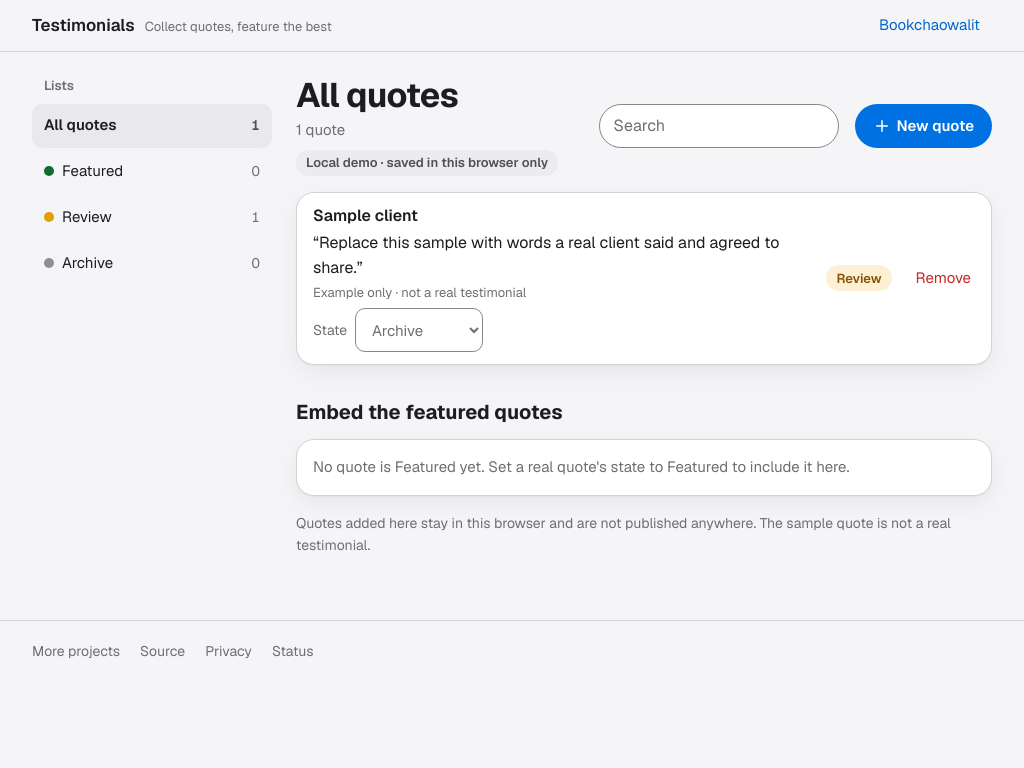
Test: lists, search, state and remove › changes state, moves the quote between lists, and shows per-list empty states
The width and height of the screenshot is (1024, 768).
Select "Archive" in the dropdown labelled "State" at (419, 330), box x1=355 y1=308 x2=483 y2=352
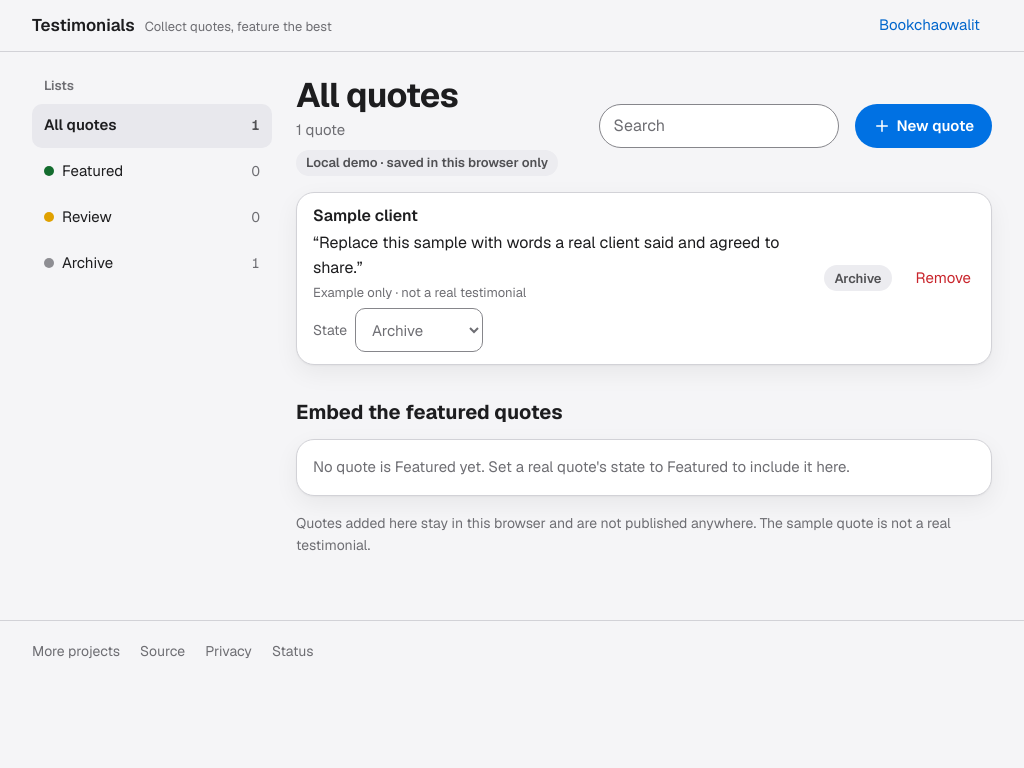
Check: the text with class "as-pill" reads "Archive", box x1=834 y1=270 x2=882 y2=287
Click the button "Archive 1" at (152, 264), box x1=32 y1=242 x2=272 y2=286
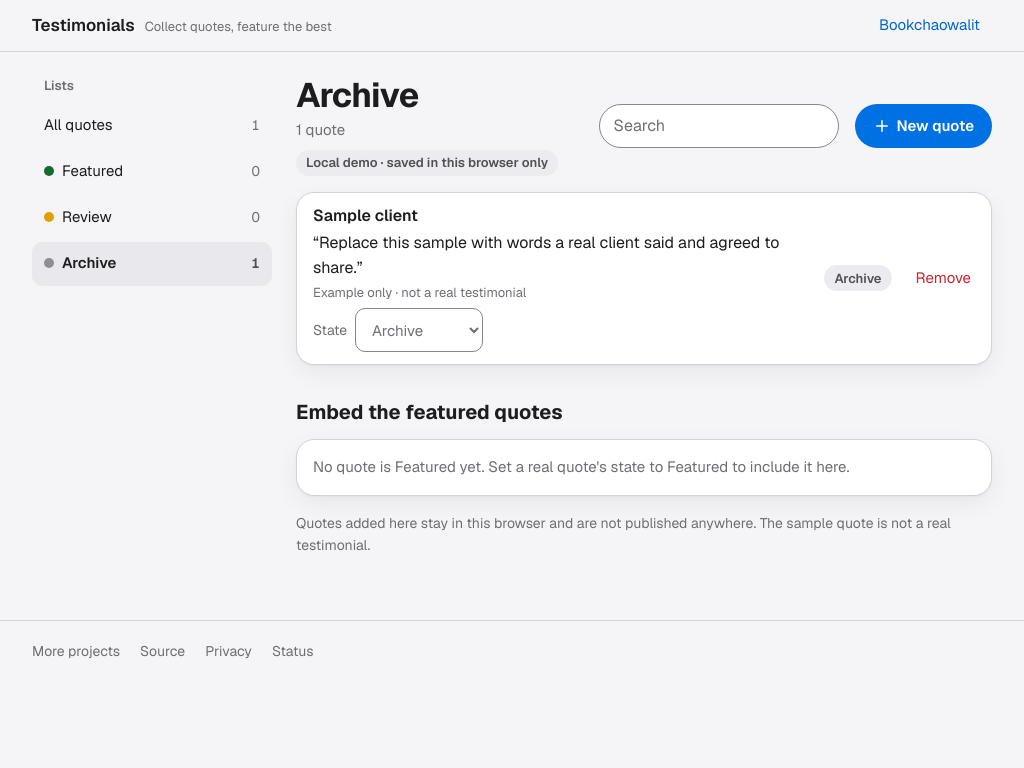
Click the button "Featured 0" at (152, 172), box x1=32 y1=150 x2=272 y2=194
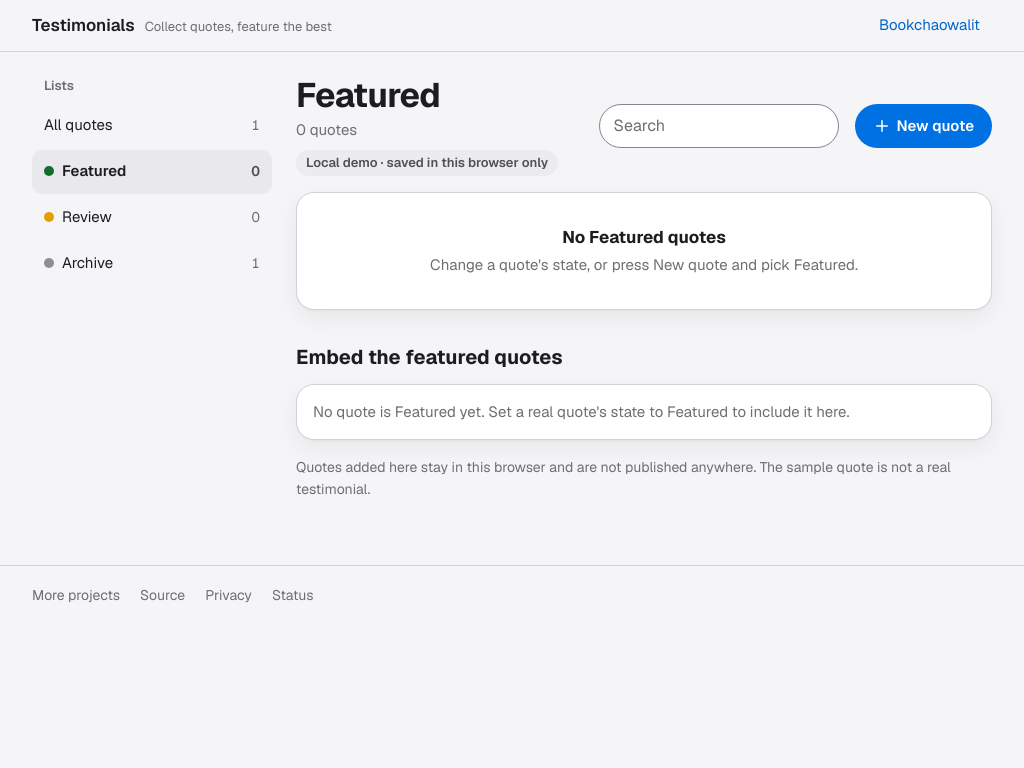
Check: the element with class "as-empty" shows "No Featured quotes", box x1=296 y1=192 x2=992 y2=310
